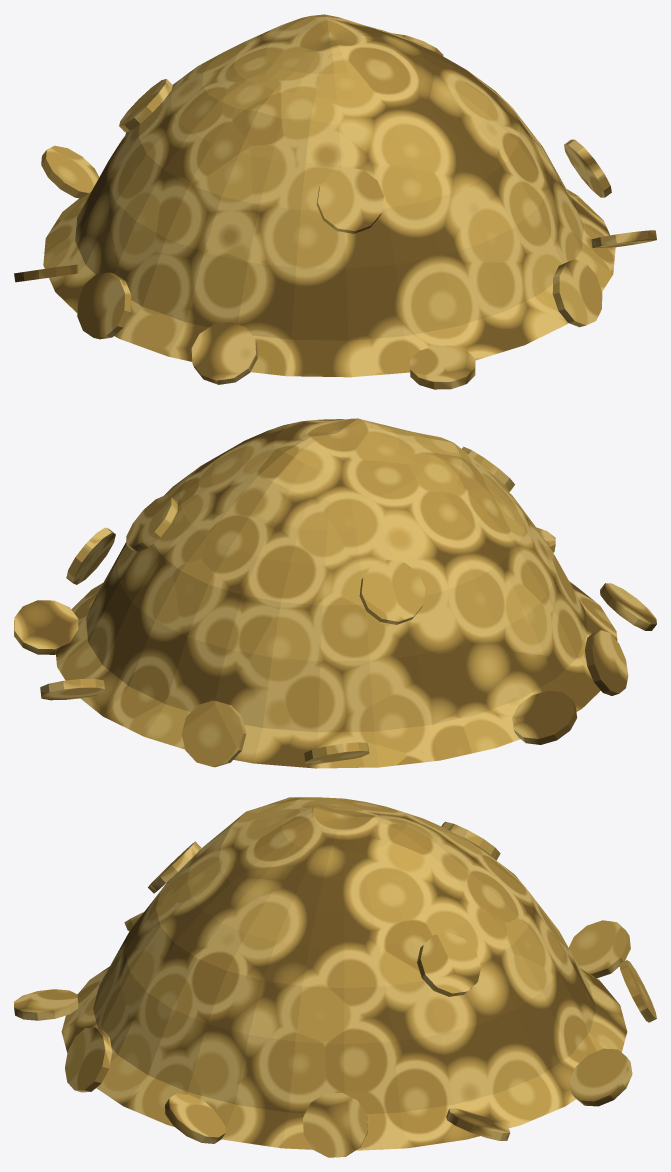
File: 금화더미.fbx
The picture shows the model from 3 angles, top to bottom: view 1: azimuth 30°, elevation 25°; view 2: azimuth 150°, elevation 25°; view 3: azimuth 270°, elevation 25°; orthographic projection.
Parts seen in each view (by area): view 1: 금화더미; view 2: 금화더미; view 3: 금화더미.
Part boxes in pixels (x1,y1,x2,y2): 금화더미: (14,14,656,389); 금화더미: (14,418,656,768); 금화더미: (14,797,656,1157).
Size of the model in its own units: 636 by 250 by 659.
1 material, 1 textured.
